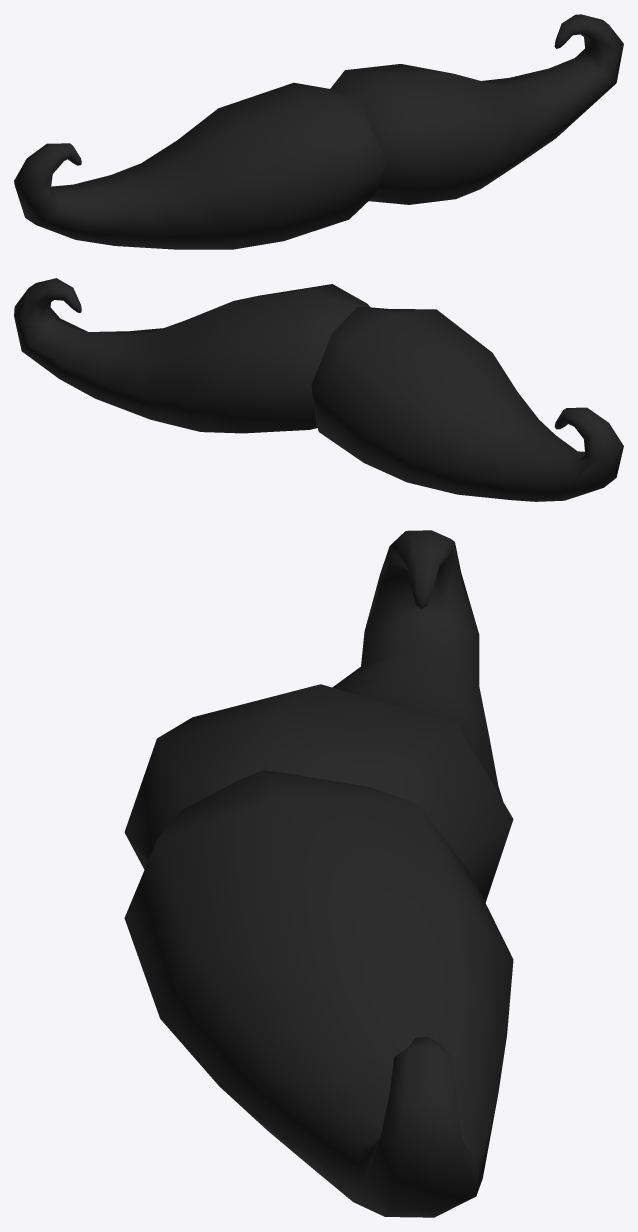
Rendered from Mustache_Black_007.glb.
The picture shows the model from 3 angles, top to bottom: view 1: azimuth 30°, elevation 25°; view 2: azimuth 150°, elevation 25°; view 3: azimuth 270°, elevation 25°; orthographic projection. The views are drawn at different scales.
Visible parts, largest first — view 1: Mustache_Black_007; view 2: Mustache_Black_007; view 3: Mustache_Black_007.
Part boxes in pixels (x1,y1,x2,y2): Mustache_Black_007: [14, 14, 623, 249]; Mustache_Black_007: [14, 278, 623, 501]; Mustache_Black_007: [124, 530, 513, 1217].
Bounding box in the file's own units: 0.245 × 0.052 × 0.0686.
1 material, 1 textured.
